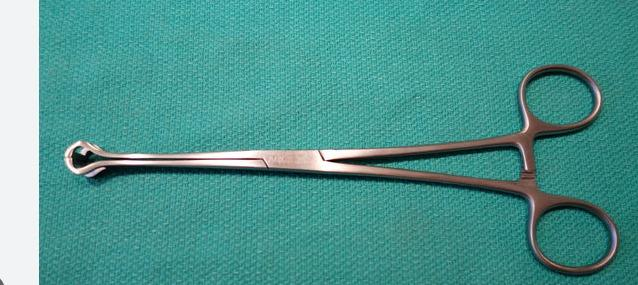Babcock Forceps: (62, 57, 620, 278)
